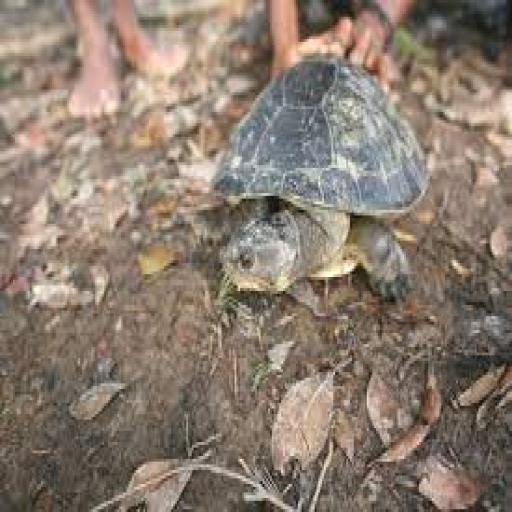turtle: (205, 49, 430, 307)
